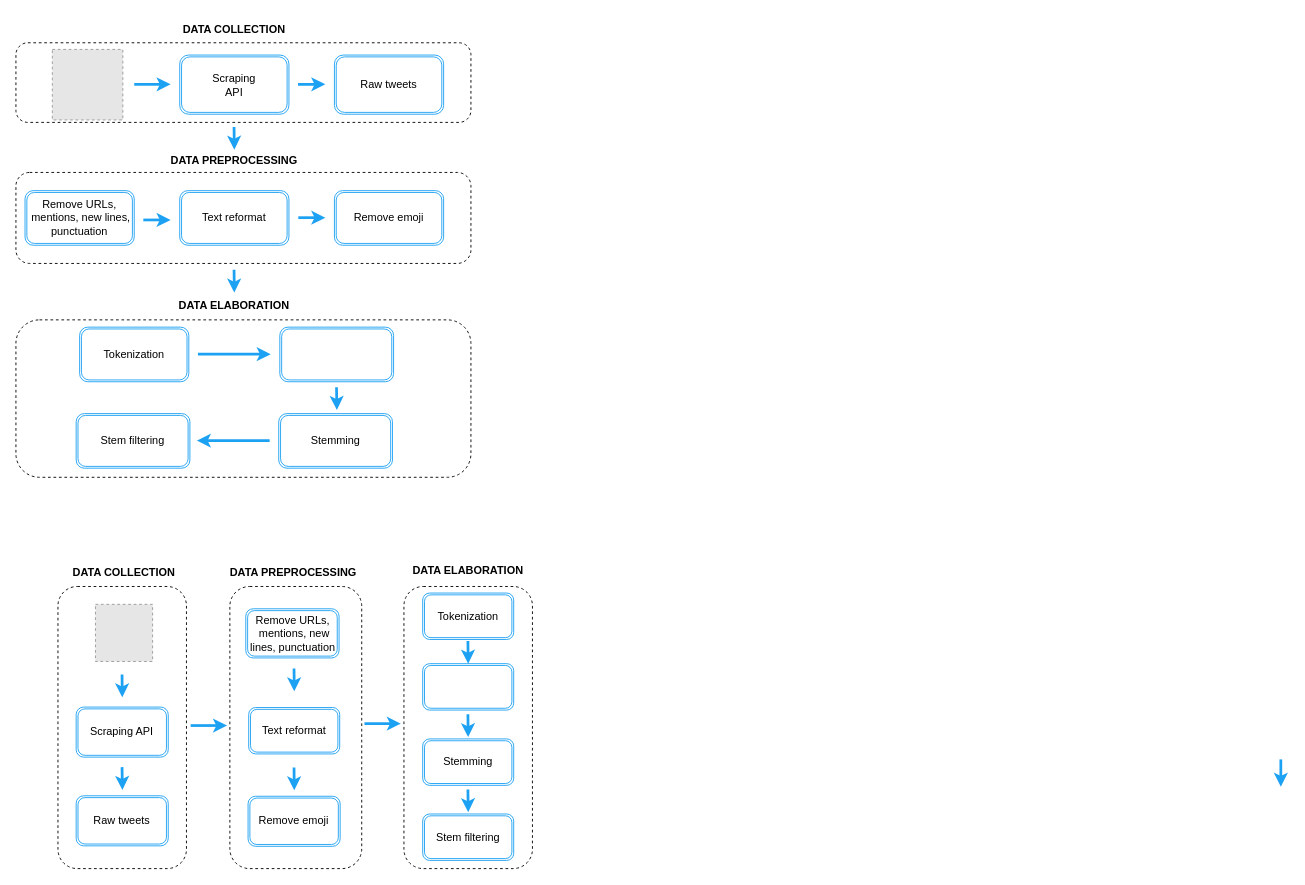
Image size: 1305x885. Some labels were removed from this diagram. Grey dashed boxes stand in for pictures. Here are the shapes that lost their labels. From the top down, the box of each, then its label:
(279, 326, 394, 382): Stop-words filtering
(422, 663, 514, 710): Stopwords filtering
